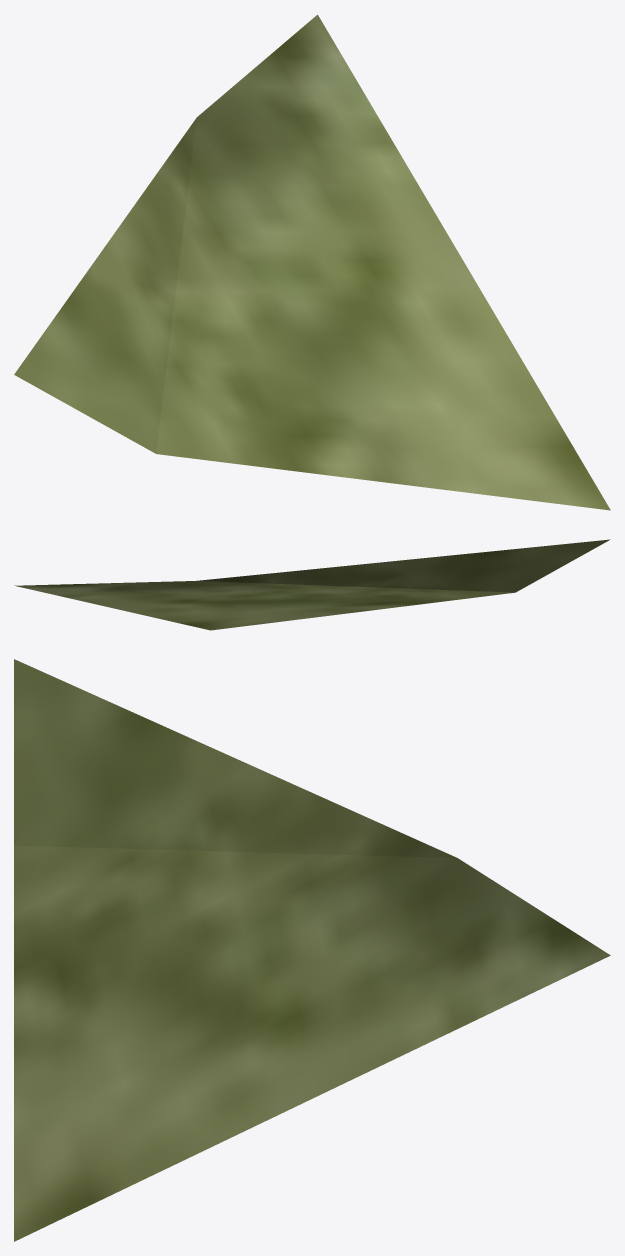
3 views of the same model, one above another, from view 1: azimuth 30°, elevation 25°; view 2: azimuth 150°, elevation 25°; view 3: azimuth 270°, elevation 25° (orthographic). The views are drawn at different scales.
Bounding box in the file's own units: 0.8072 × 0.3637 × 0.6869.
1 material, 1 textured.
